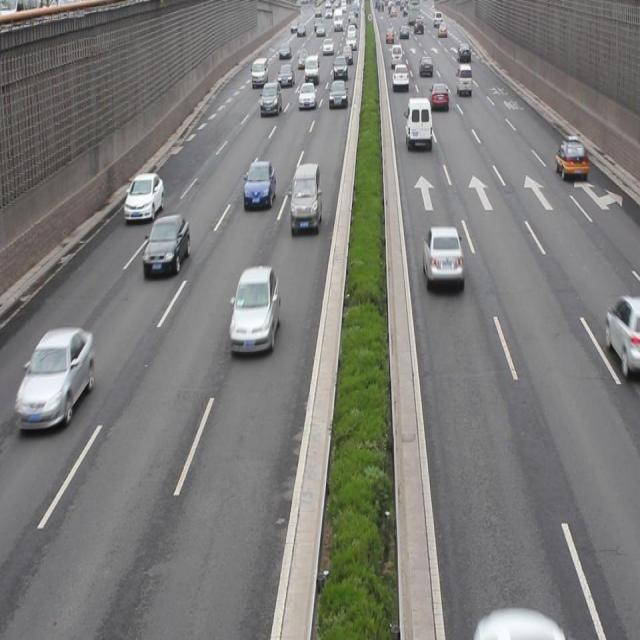car: (16, 325, 93, 429), (229, 268, 278, 353), (145, 214, 190, 280), (604, 295, 640, 375), (422, 227, 464, 291), (124, 173, 164, 222), (242, 156, 275, 208), (554, 134, 586, 180)
truck: (289, 165, 322, 233), (404, 96, 431, 153)
